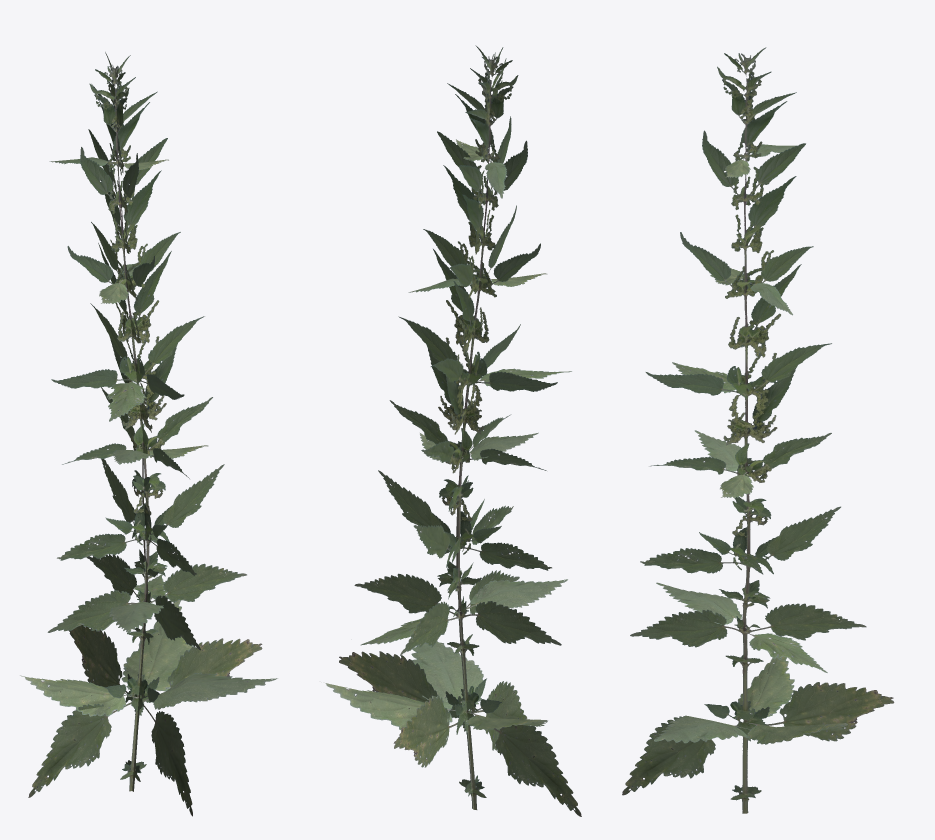
File: sm_Nettle_01_01.fbx
3 renders of one model, left to right at view 1: azimuth 30°, elevation 25°; view 2: azimuth 150°, elevation 25°; view 3: azimuth 270°, elevation 25°, orthographic. The views are drawn at different scales.
Visible parts, largest first — view 1: sm_Nettle_01_01_LOD0; view 2: sm_Nettle_01_01_LOD0; view 3: sm_Nettle_01_01_LOD0.
Boxes of the visible parts, x1,y1,x2,y2 form: sm_Nettle_01_01_LOD0: (20, 52, 277, 816); sm_Nettle_01_01_LOD0: (325, 45, 581, 816); sm_Nettle_01_01_LOD0: (622, 47, 894, 813).
Bounding box in the file's own units: 40.18 × 40.47 × 115.
